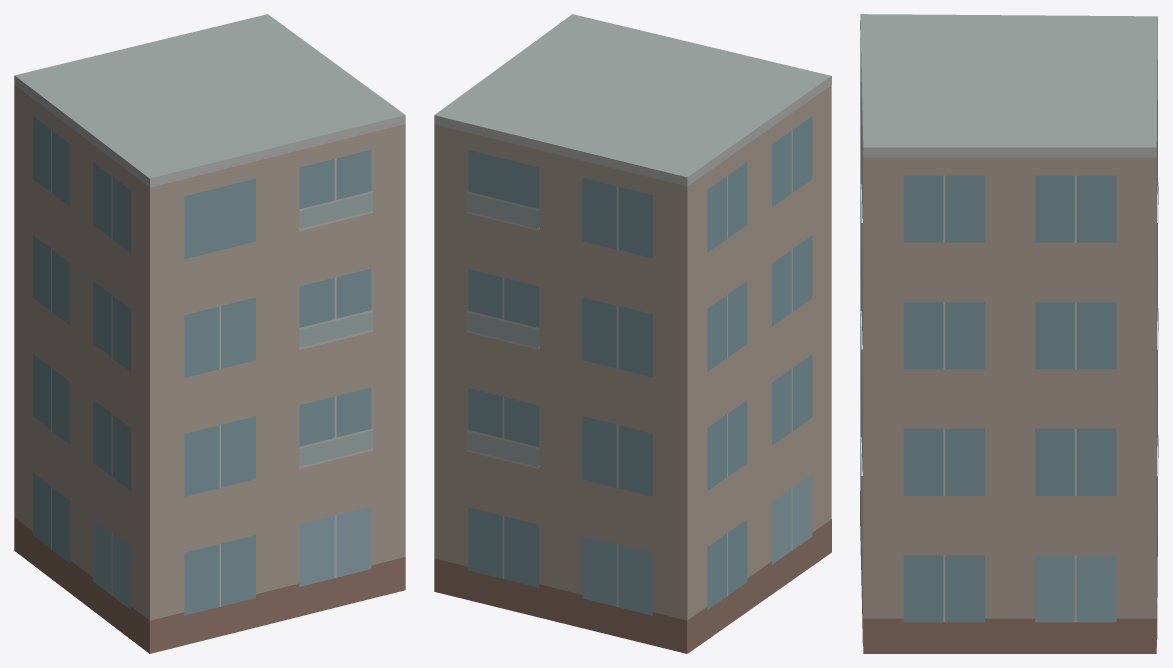
Rendered from survey-upis-32462606.glb.
3 renders of one model, left to right at view 1: azimuth 30°, elevation 25°; view 2: azimuth 150°, elevation 25°; view 3: azimuth 270°, elevation 25°, orthographic. The views are drawn at different scales.
Parts seen in each view (by area): view 1: survey-upis-32462606.tmp; view 2: survey-upis-32462606.tmp; view 3: survey-upis-32462606.tmp.
Part boxes in pixels (<box>): survey-upis-32462606.tmp: <box>14,14,405,653</box>; survey-upis-32462606.tmp: <box>434,14,831,653</box>; survey-upis-32462606.tmp: <box>860,14,1158,653</box>.
Bounding box in the file's own units: 7.26 × 12.8 × 6.85.
